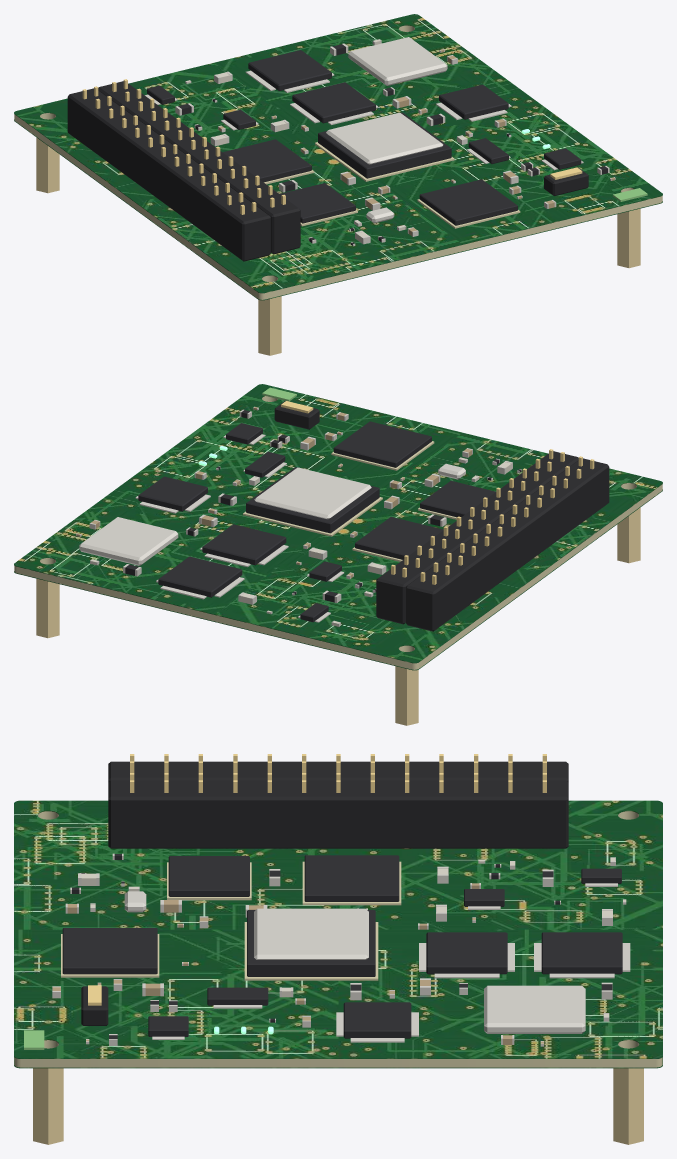
File: obc_board.glb
3 renders of one model, top to bottom at view 1: azimuth 30°, elevation 25°; view 2: azimuth 150°, elevation 25°; view 3: azimuth 270°, elevation 25°, orthographic. The views are drawn at different scales.
Visible parts, largest first — view 1: obc_board; view 2: obc_board; view 3: obc_board.
Part boxes in pixels (<box>): obc_board: <box>14,14,662,355</box>; obc_board: <box>14,384,662,725</box>; obc_board: <box>14,754,662,1144</box>.
Size of the model in its own units: 0.0902 by 0.0255 by 0.0959.
11 materials, 1 textured.
